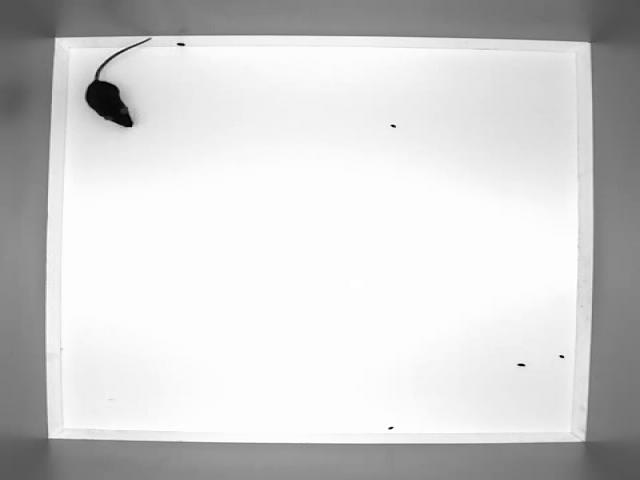Tikus: (87, 38, 149, 130)
